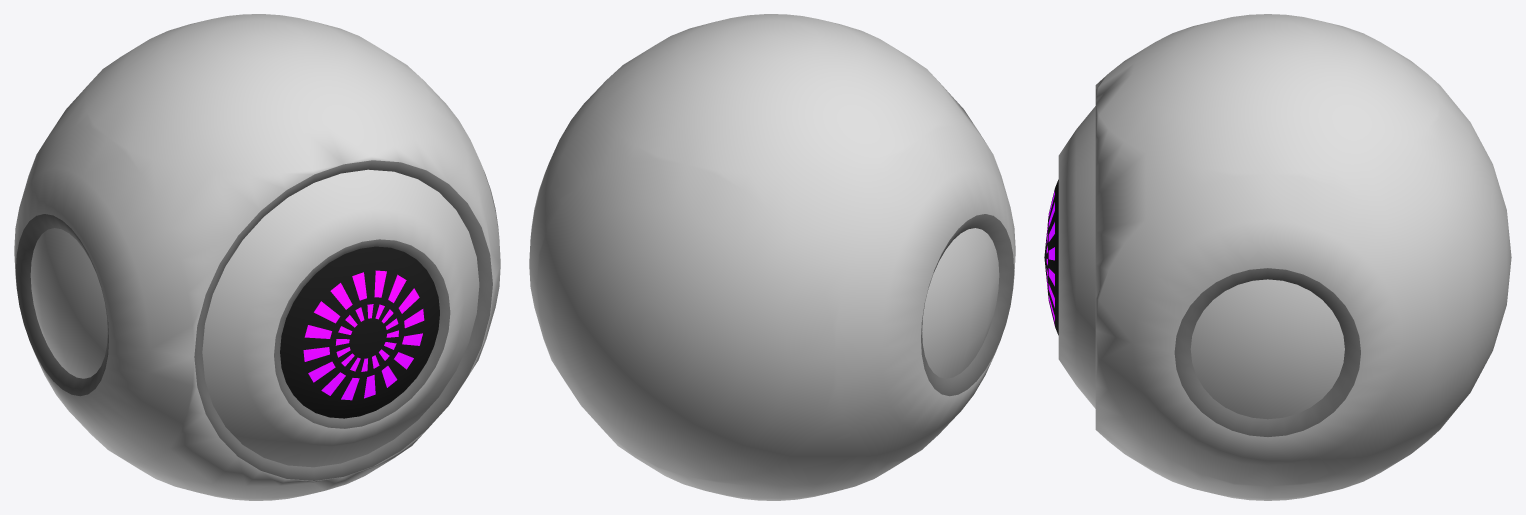
The model's file is The_Master_Eye_Edit1.fbx.
3 renders of one model, left to right at view 1: azimuth 30°, elevation 25°; view 2: azimuth 150°, elevation 25°; view 3: azimuth 270°, elevation 25°, orthographic.
Visible parts, largest first — view 1: Sphere.002, Sphere, Sphere.001; view 2: Sphere.002, Sphere; view 3: Sphere.002, Sphere, Sphere.001.
Part boxes in pixels (bbox=[...]): Sphere.002: bbox=[14, 14, 500, 500]; Sphere: bbox=[30, 169, 479, 467]; Sphere.001: bbox=[280, 246, 439, 418]; Sphere.002: bbox=[529, 14, 1015, 500]; Sphere: bbox=[922, 228, 999, 378]; Sphere.002: bbox=[1095, 14, 1511, 500]; Sphere: bbox=[1058, 106, 1344, 419]; Sphere.001: bbox=[1044, 179, 1058, 335].
Bounding box in the file's own units: 189 × 200 × 192.
